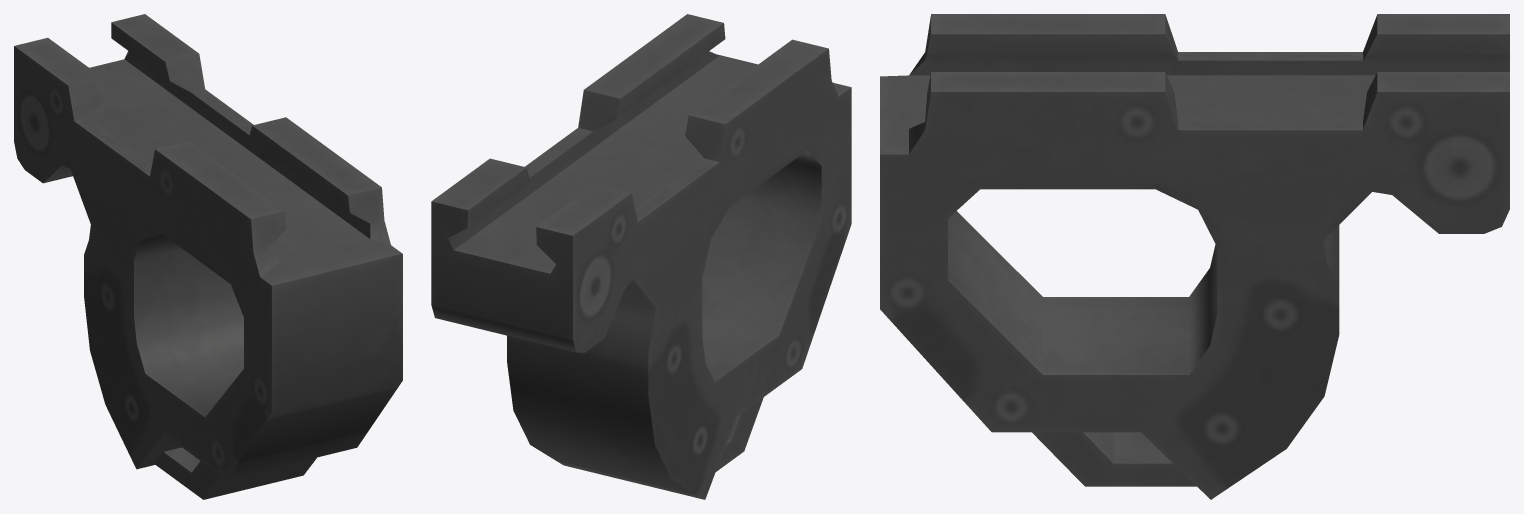
The model's file is IG_Acc_Grip_ALL_ADS_2.fbx.
The picture shows the model from 3 angles, left to right: view 1: azimuth 30°, elevation 25°; view 2: azimuth 150°, elevation 25°; view 3: azimuth 270°, elevation 25°; orthographic projection. The views are drawn at different scales.
Visible parts, largest first — view 1: Acc_Grip_ALL_ADS_2; view 2: Acc_Grip_ALL_ADS_2; view 3: Acc_Grip_ALL_ADS_2.
Part boxes in pixels (x1,y1,x2,y2): Acc_Grip_ALL_ADS_2: (14,14,402,499); Acc_Grip_ALL_ADS_2: (431,14,851,499); Acc_Grip_ALL_ADS_2: (880,14,1509,499).
Bounding box in the file's own units: 0.0719 × 0.1751 × 0.2451.
1 material, 1 textured.
